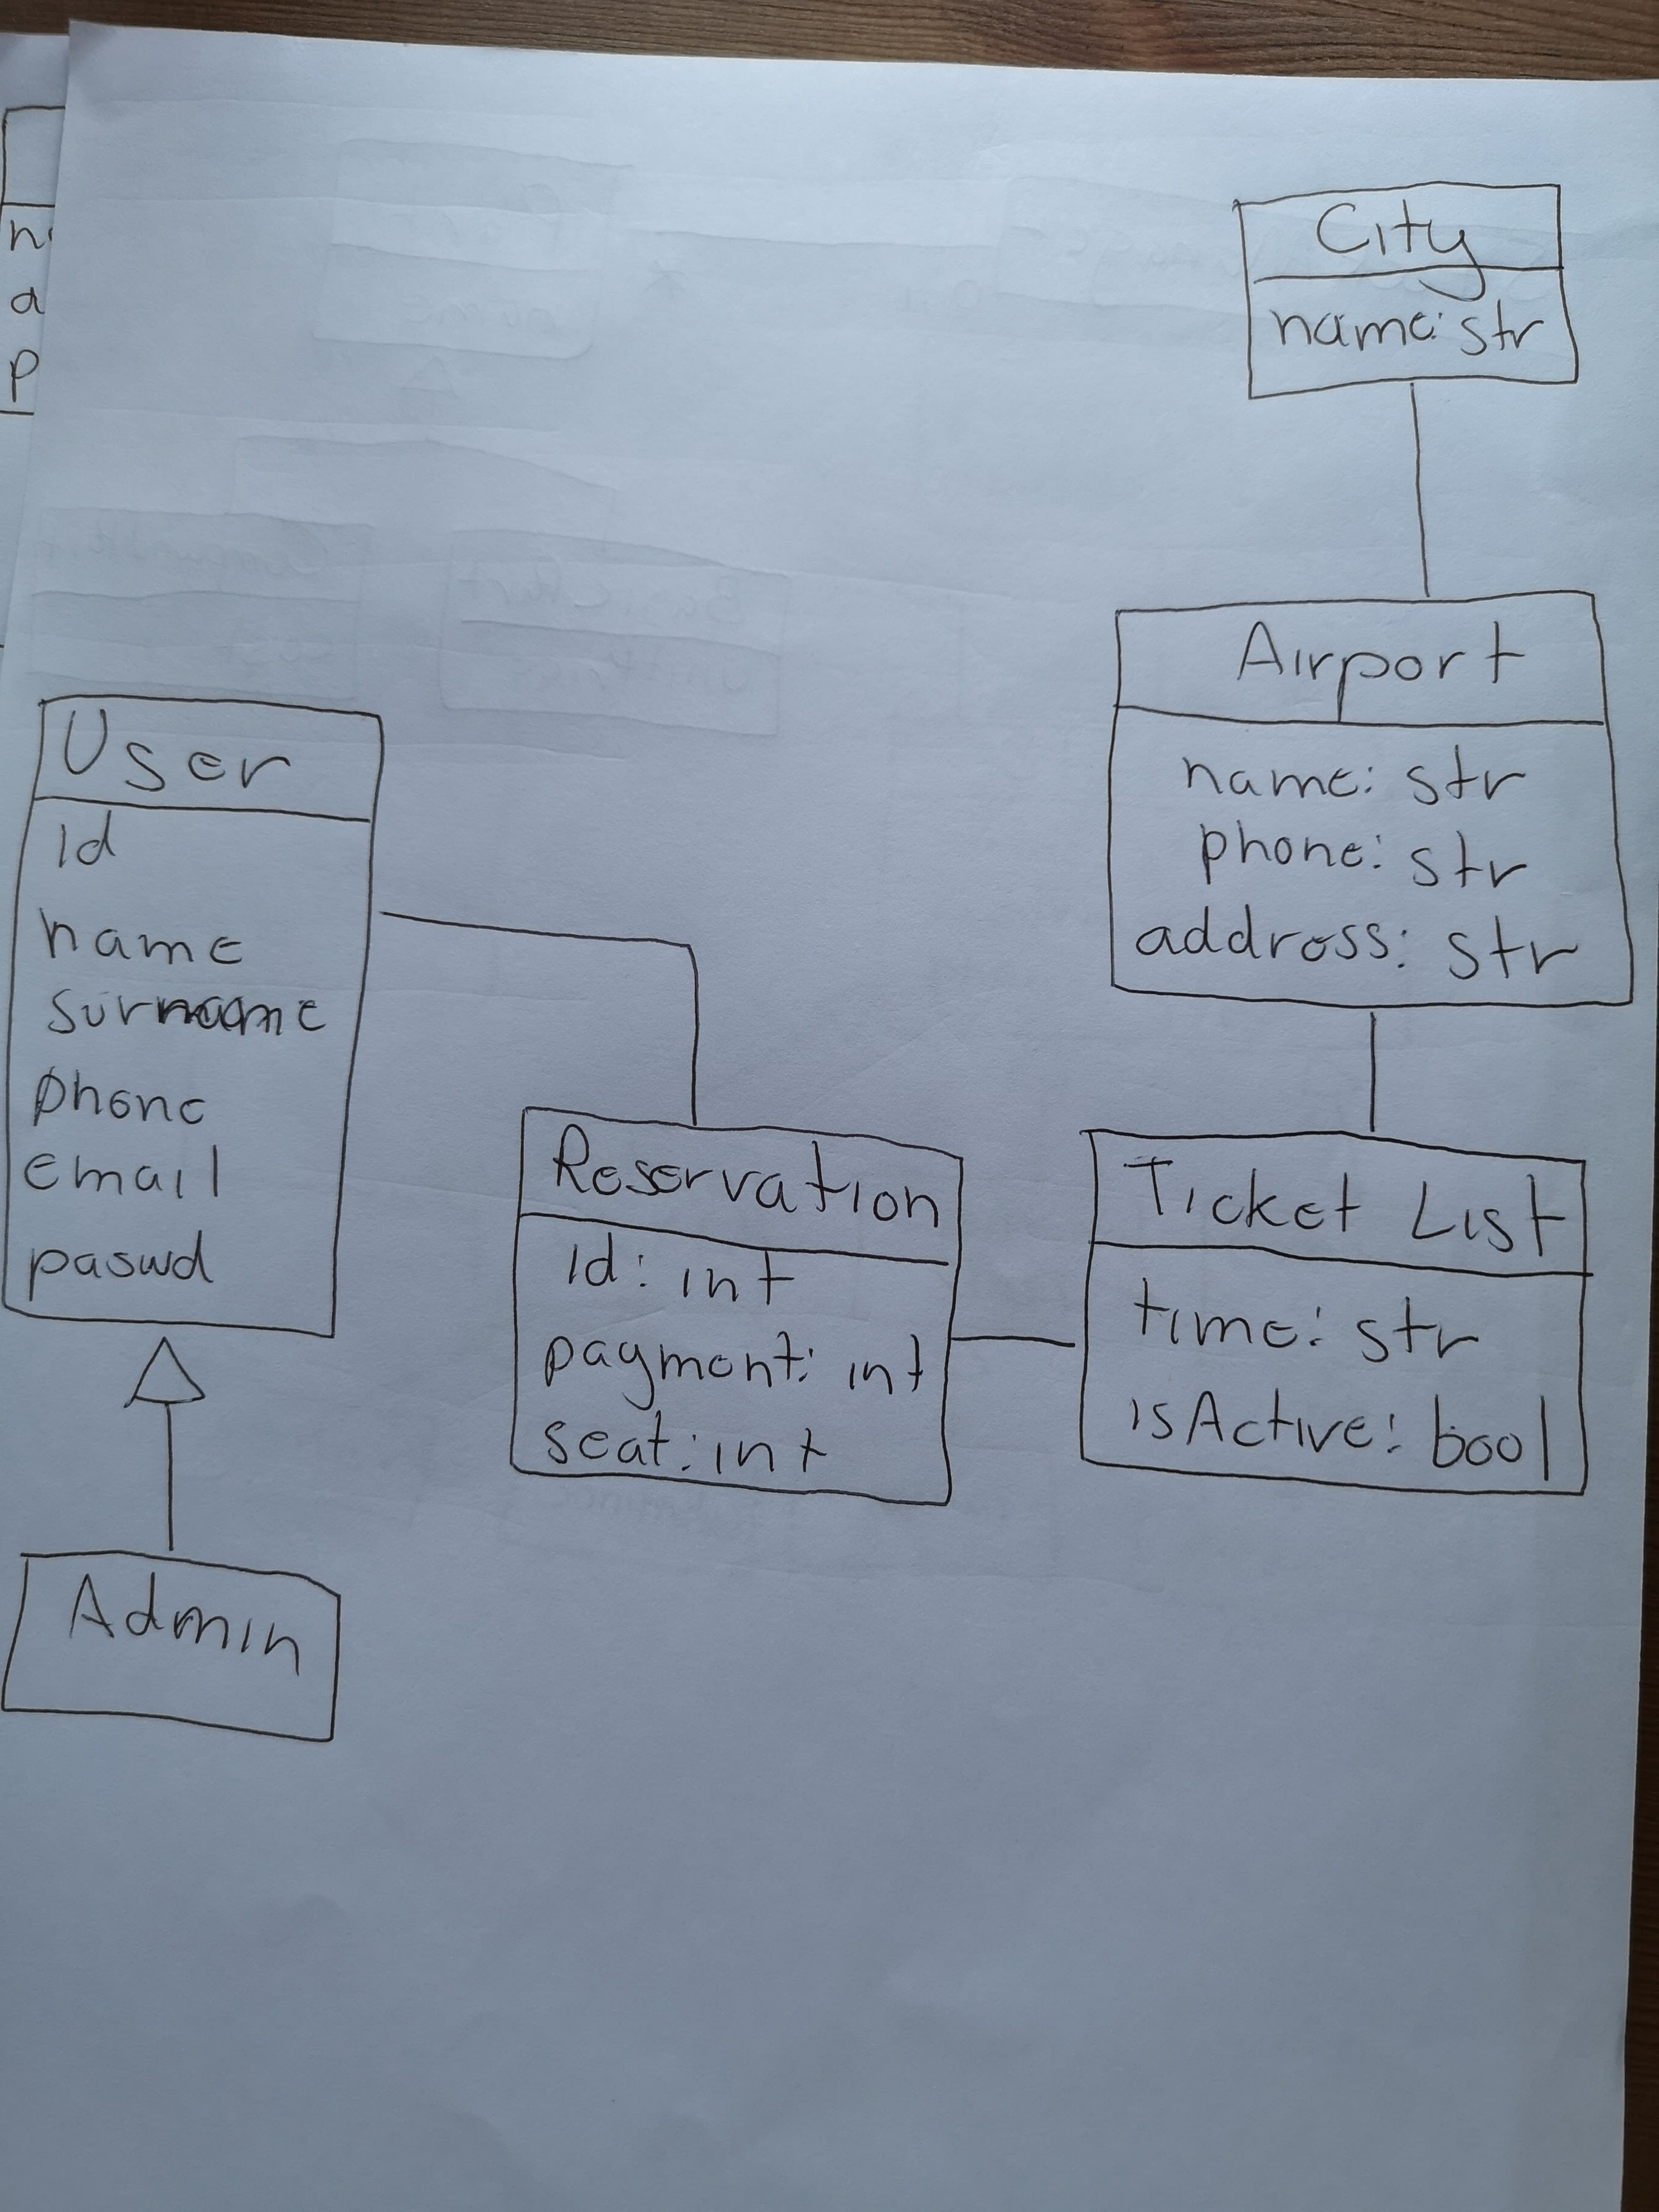association: (366, 896, 727, 1125), (1384, 378, 1452, 618), (934, 1304, 1098, 1381), (1350, 994, 1394, 1144)
class attributes: (2, 688, 386, 1349), (1098, 583, 1643, 1017), (1065, 1116, 1598, 1511), (504, 1093, 967, 1524), (1215, 174, 1592, 407)
inheritance: (115, 1329, 216, 1559)
simple class: (1, 1530, 354, 1760)
